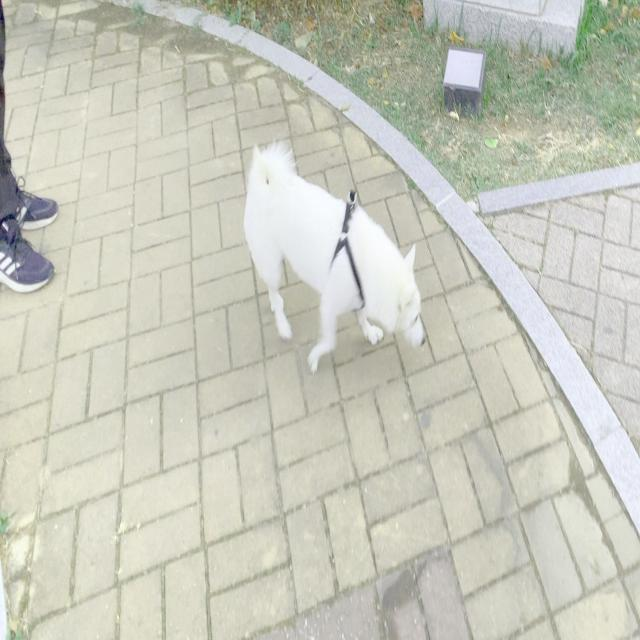Dog: (243, 140, 425, 373)
